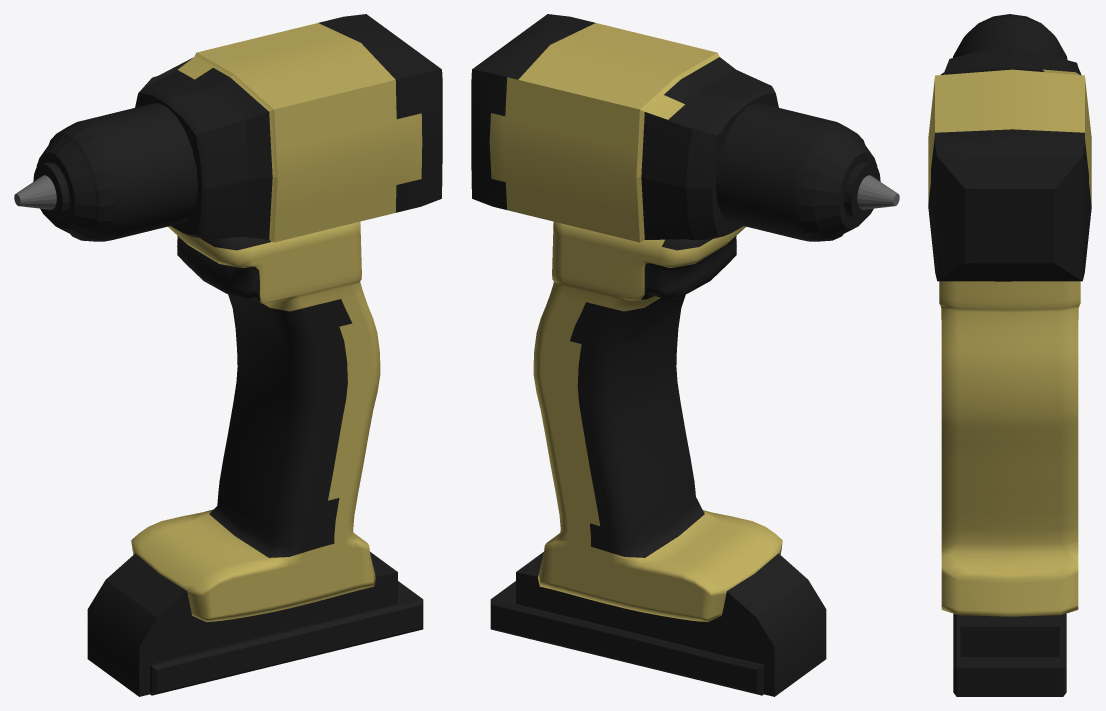
File: kmurphy_drill_gun.fbx
3 views of the same model, side by side, from view 1: azimuth 30°, elevation 25°; view 2: azimuth 150°, elevation 25°; view 3: azimuth 270°, elevation 25° (orthographic). The views are drawn at different scales.
Visible parts, largest first — view 1: pCube5; view 2: pCube5; view 3: pCube5.
Boxes of the visible parts, <box> form: pCube5: <box>14,14,442,696</box>; pCube5: <box>471,14,899,696</box>; pCube5: <box>928,14,1091,696</box>.
Size of the model in its own units: 0.2186 by 0.2979 by 0.08.
